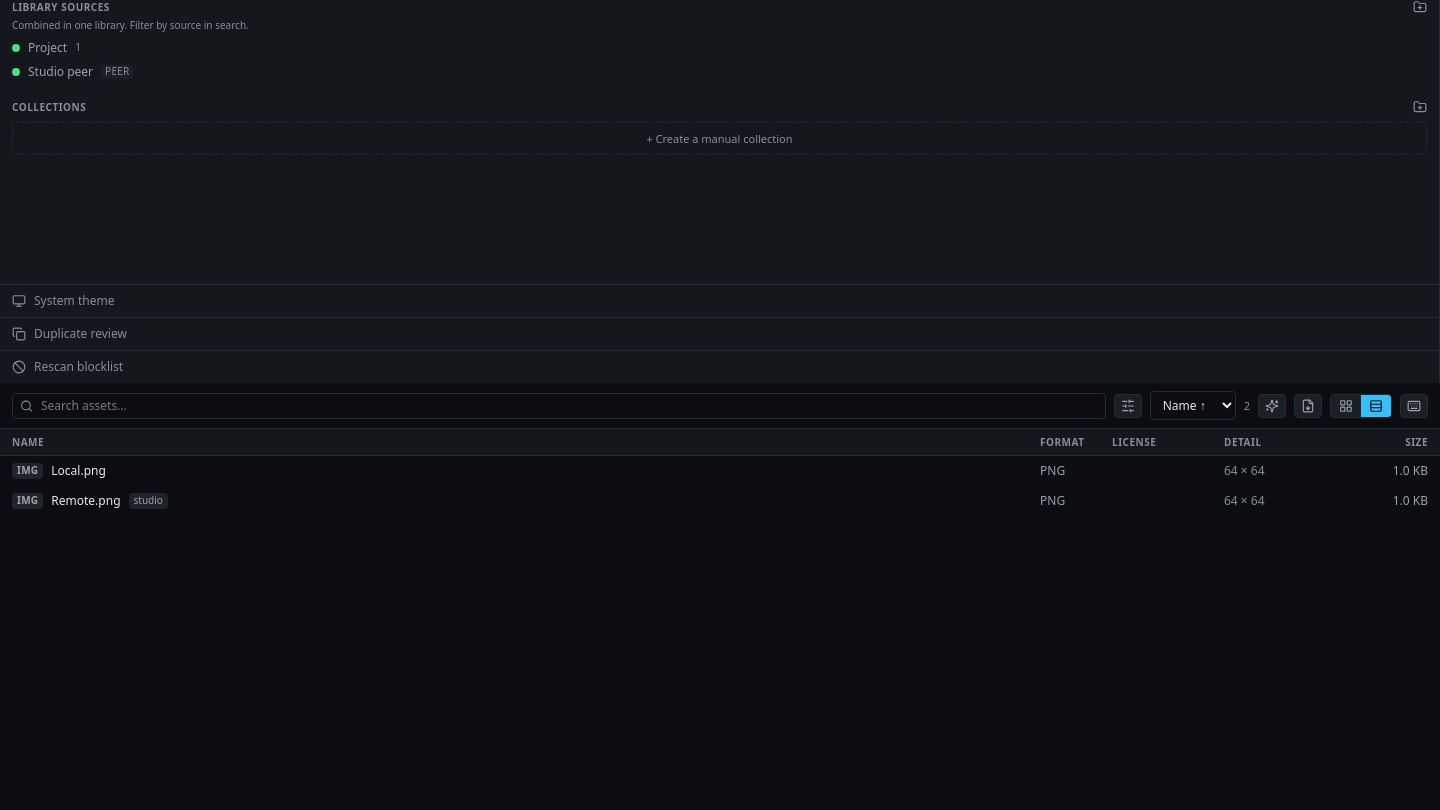
folder filtering is explicit and changing sources clears its relative path
(page scrolled)
Expected: the button "IMG Local.png png 64 × 64 1.0 KB" is shown, [0,456,1439,486]
Click the button named "Advanced filters" at (1128, 406), box [1114,394,1142,418]
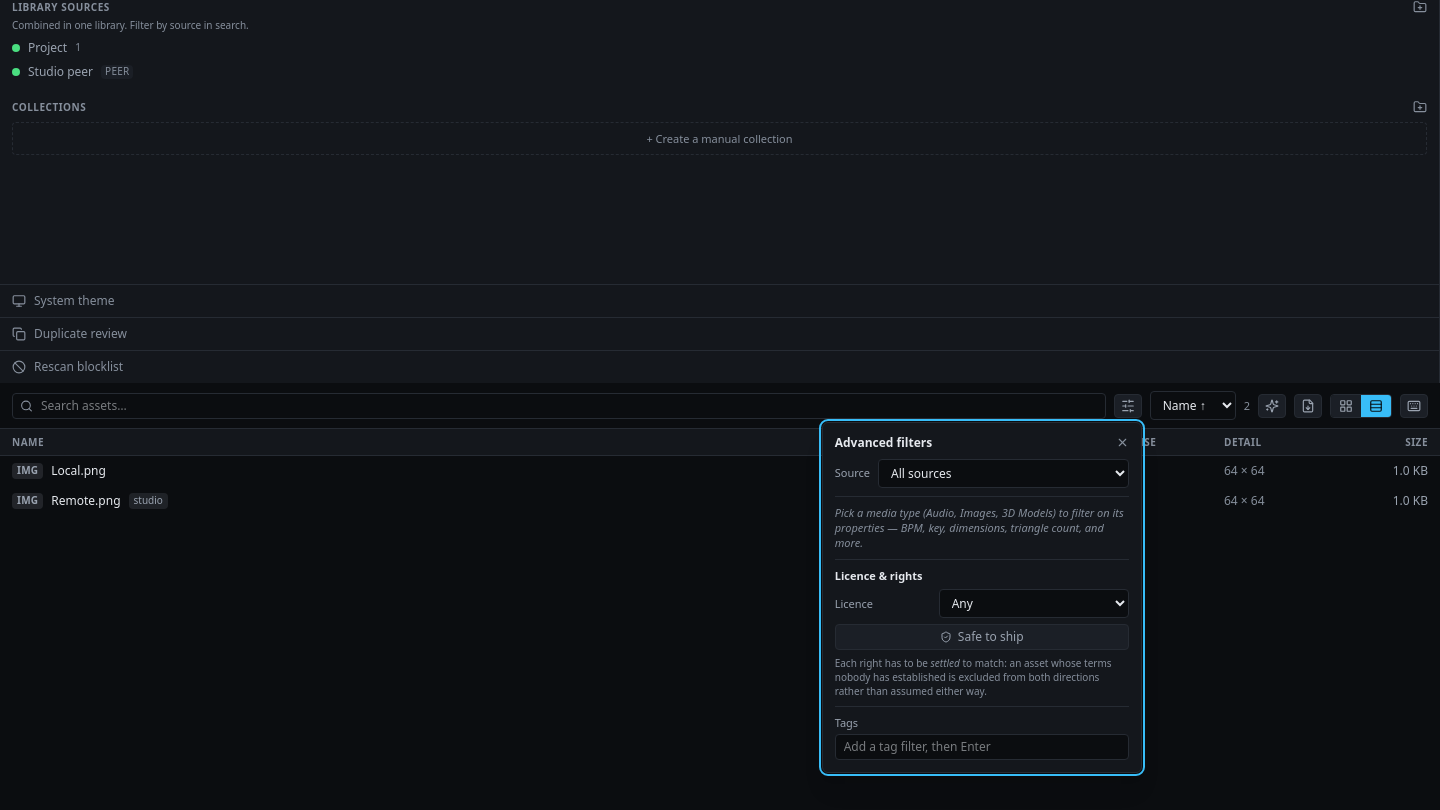
Select "Project" in the dropdown labelled "Source" at (1003, 473), box [878,458,1129,488]
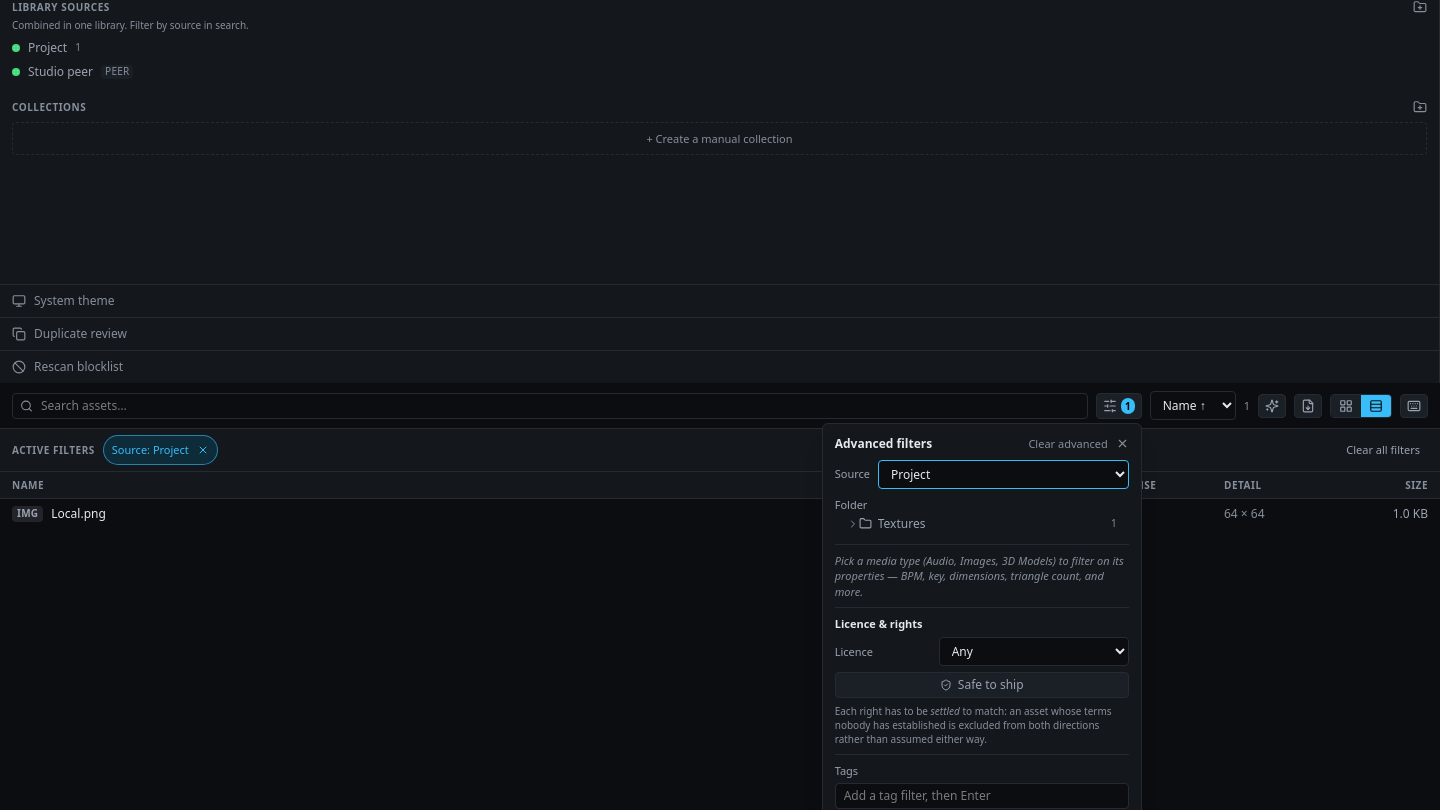
Click the button titled "Textures/" at (902, 523), box [859,512,1129,536]
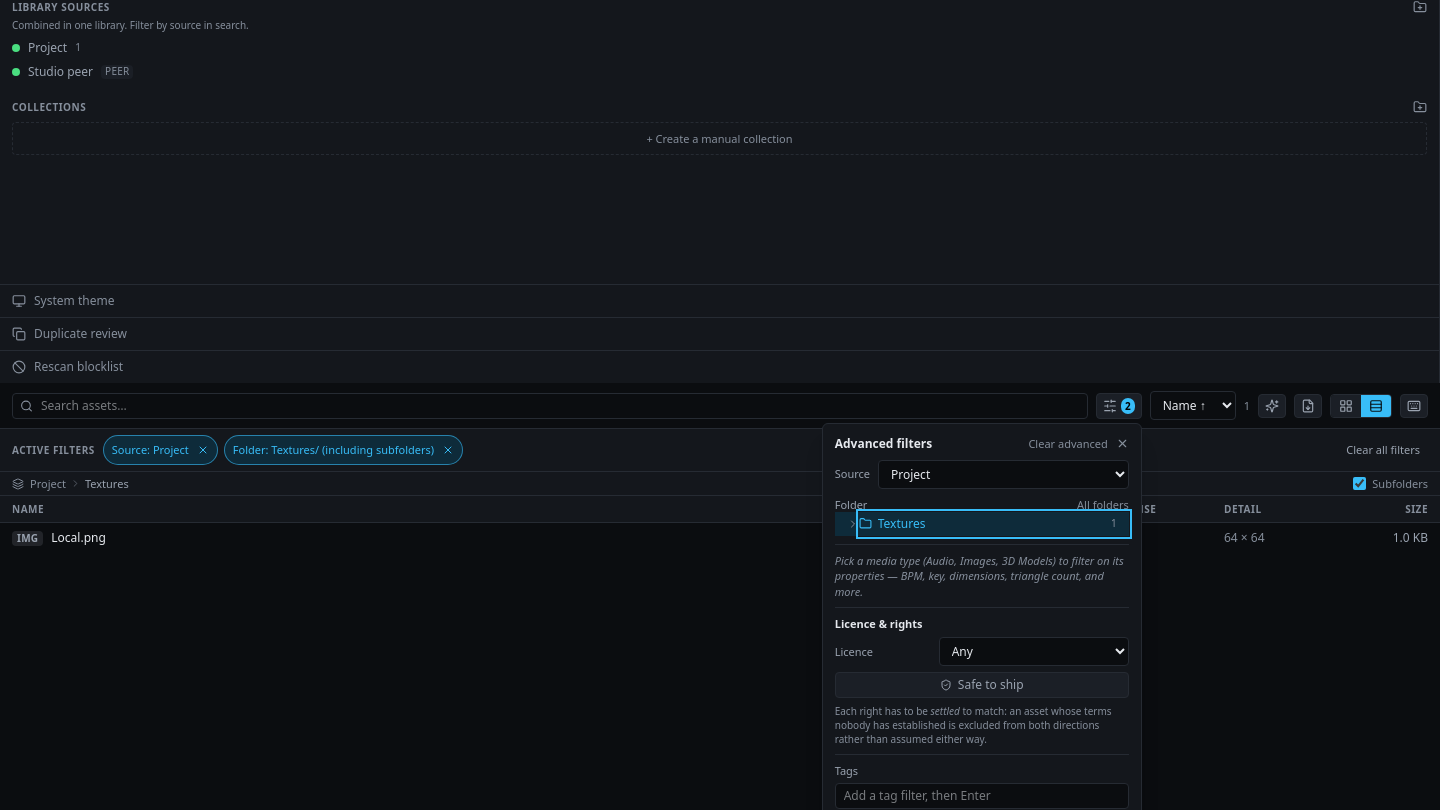
Now the text "Folder: Textures/ (including subfolders)" is shown, box [225,438,434,462]
Select "Studio peer" in the dropdown labelled "Source" at (1003, 474), box [878,460,1129,488]
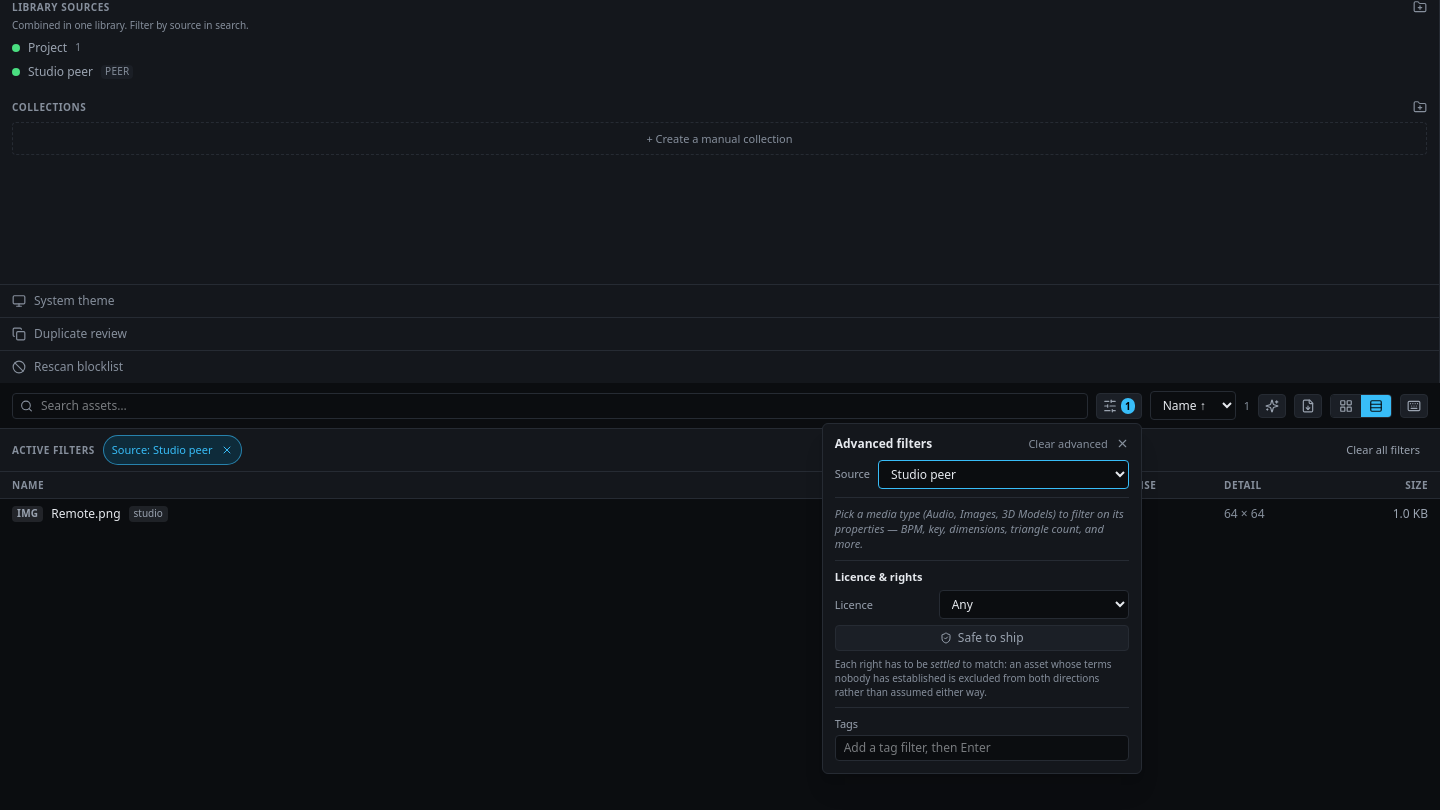
Click the button "Clear advanced" at (1068, 444), box [1028,436,1108,451]
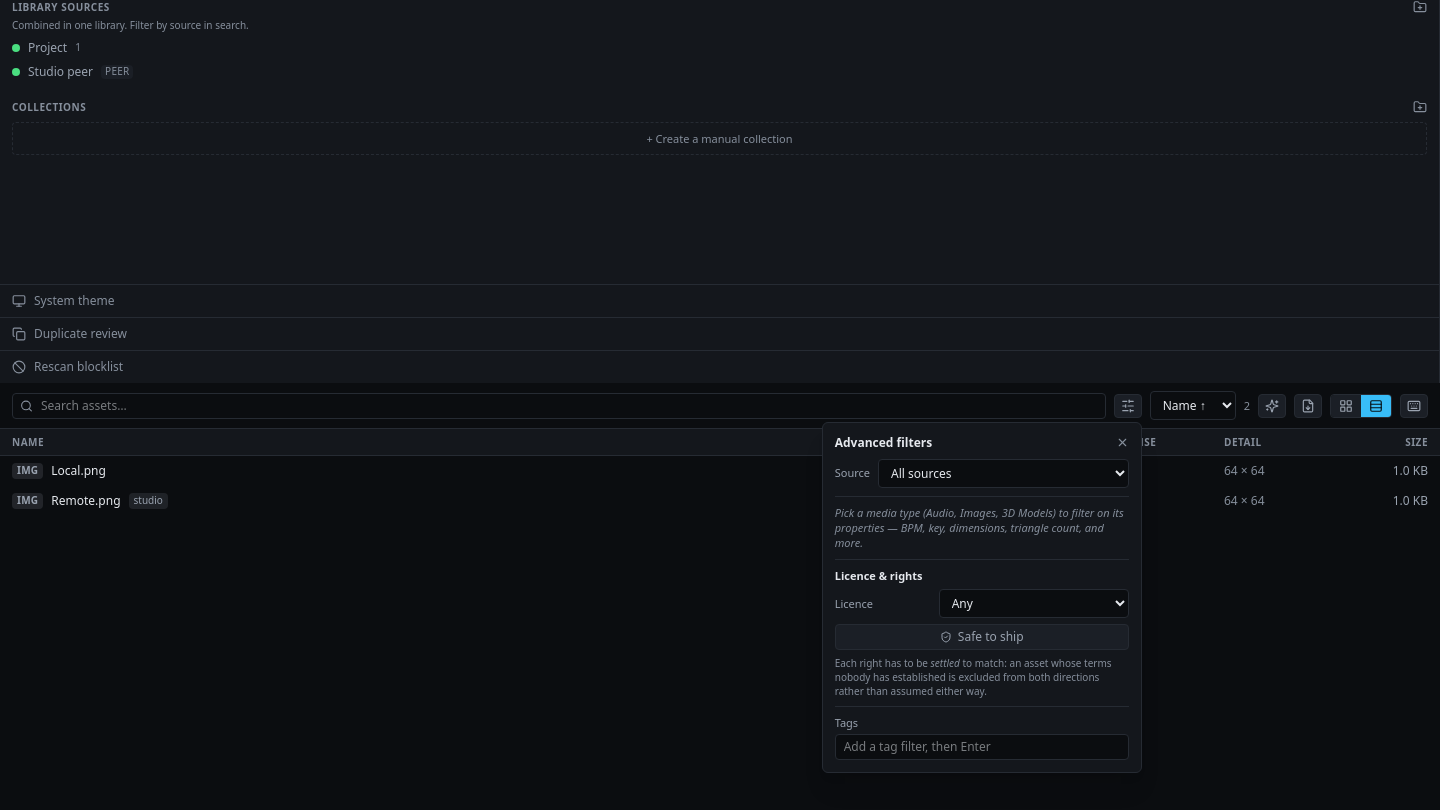
Now the button "IMG Local.png png 64 × 64 1.0 KB" is shown, box [0,456,1439,486]
